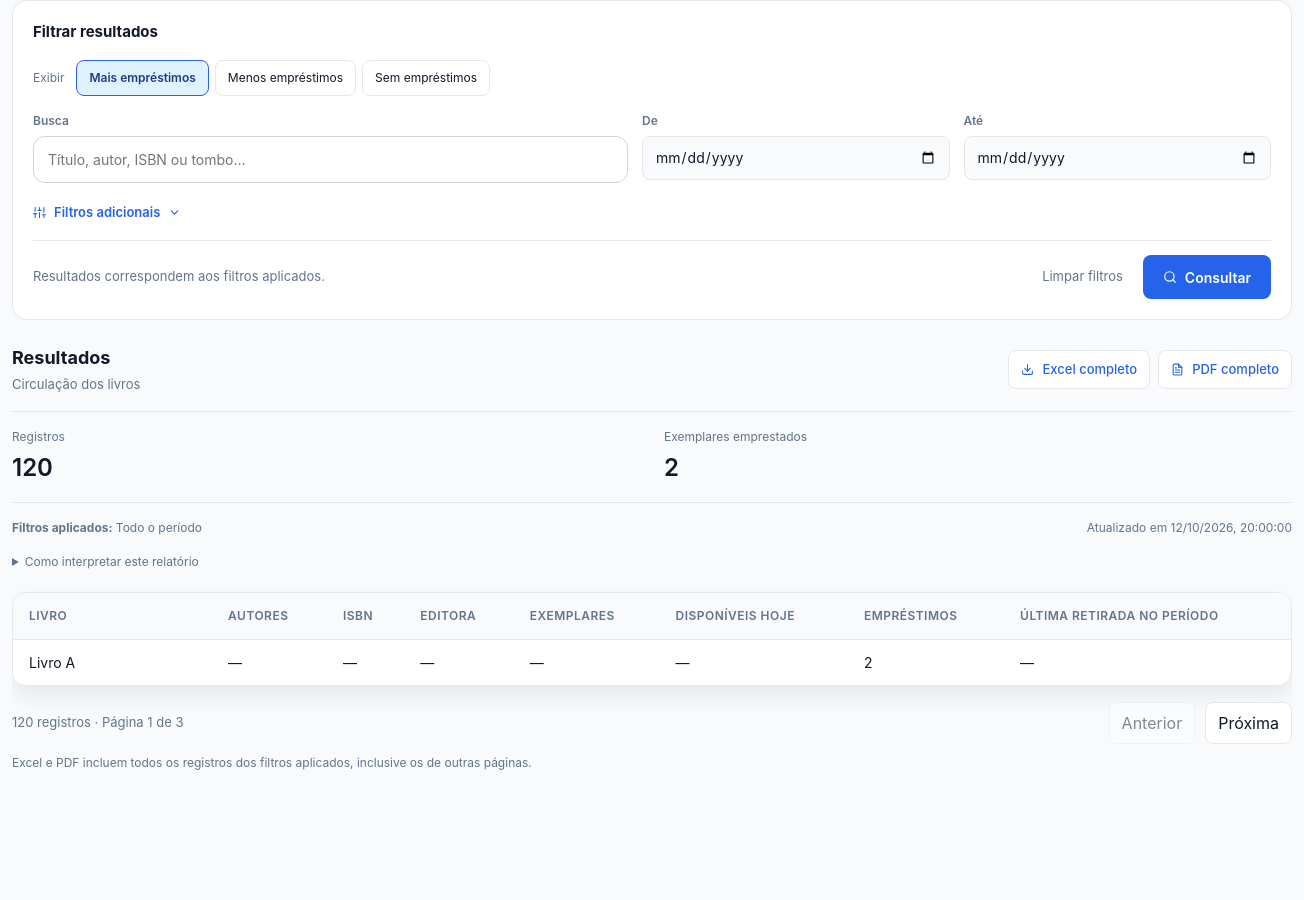
Scenario: período invertido é rejeitado antes de consultar
This screenshot has width=1304, height=900.
Expected: the text "Livro A" is shown, [13,639,212,685]
In the date field labelled "De": (796, 158) [642,136,950,180], type "2026-10-12"
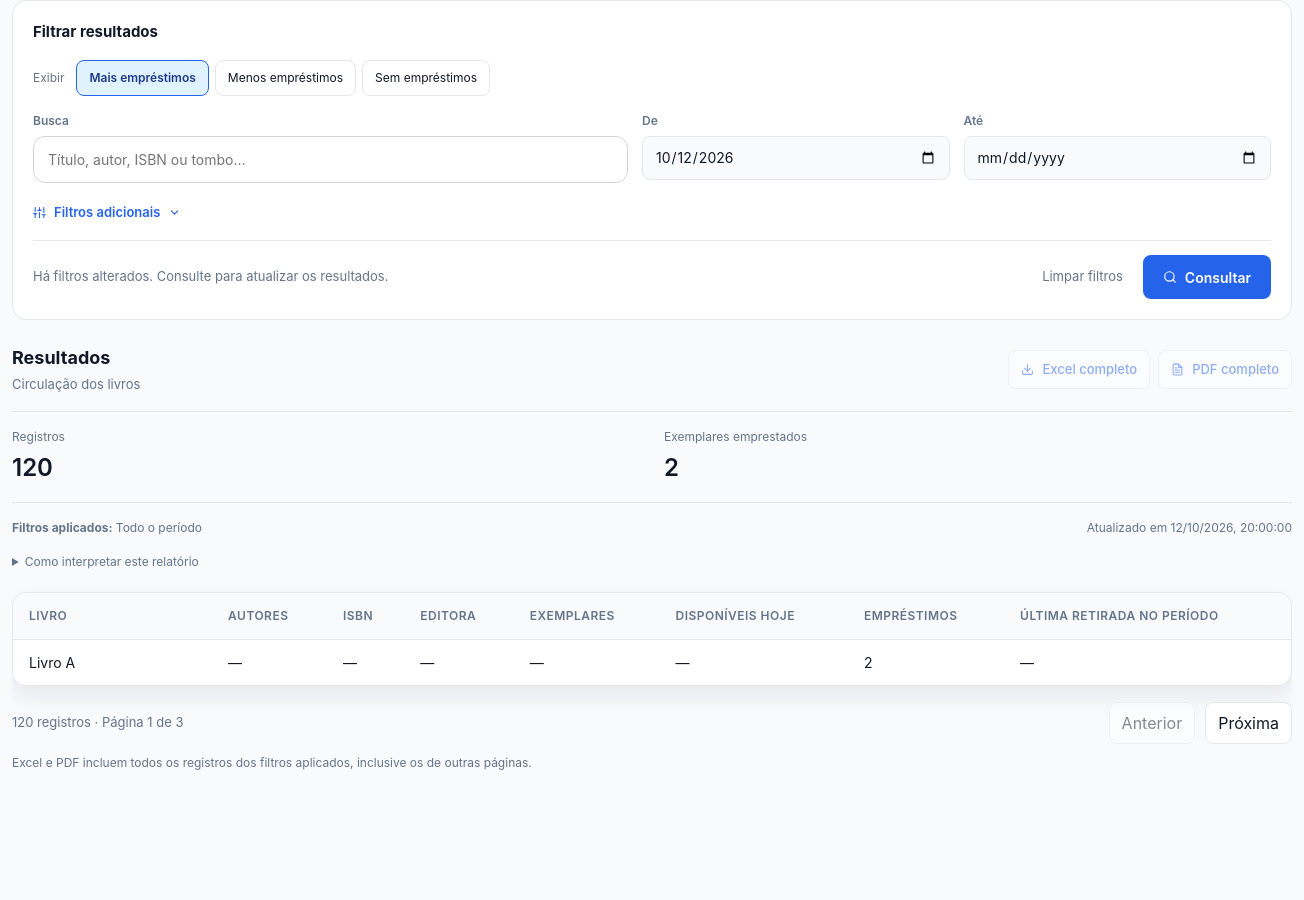
In the date field labelled "Até": (1117, 158) [964,136,1271,180], type "2026-10-01"
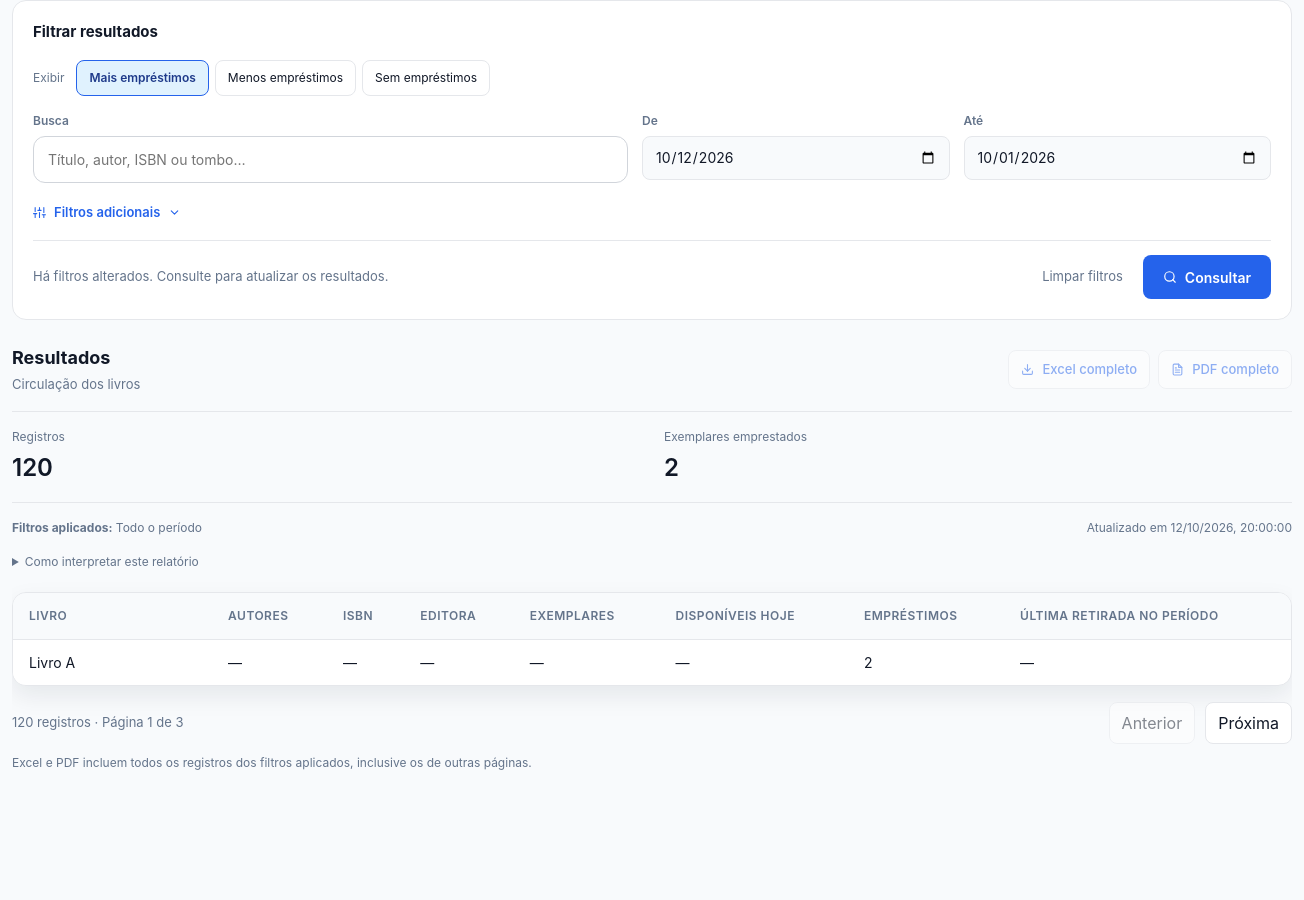
Click the button "Consultar": click(1207, 277) [1143,255,1271,299]
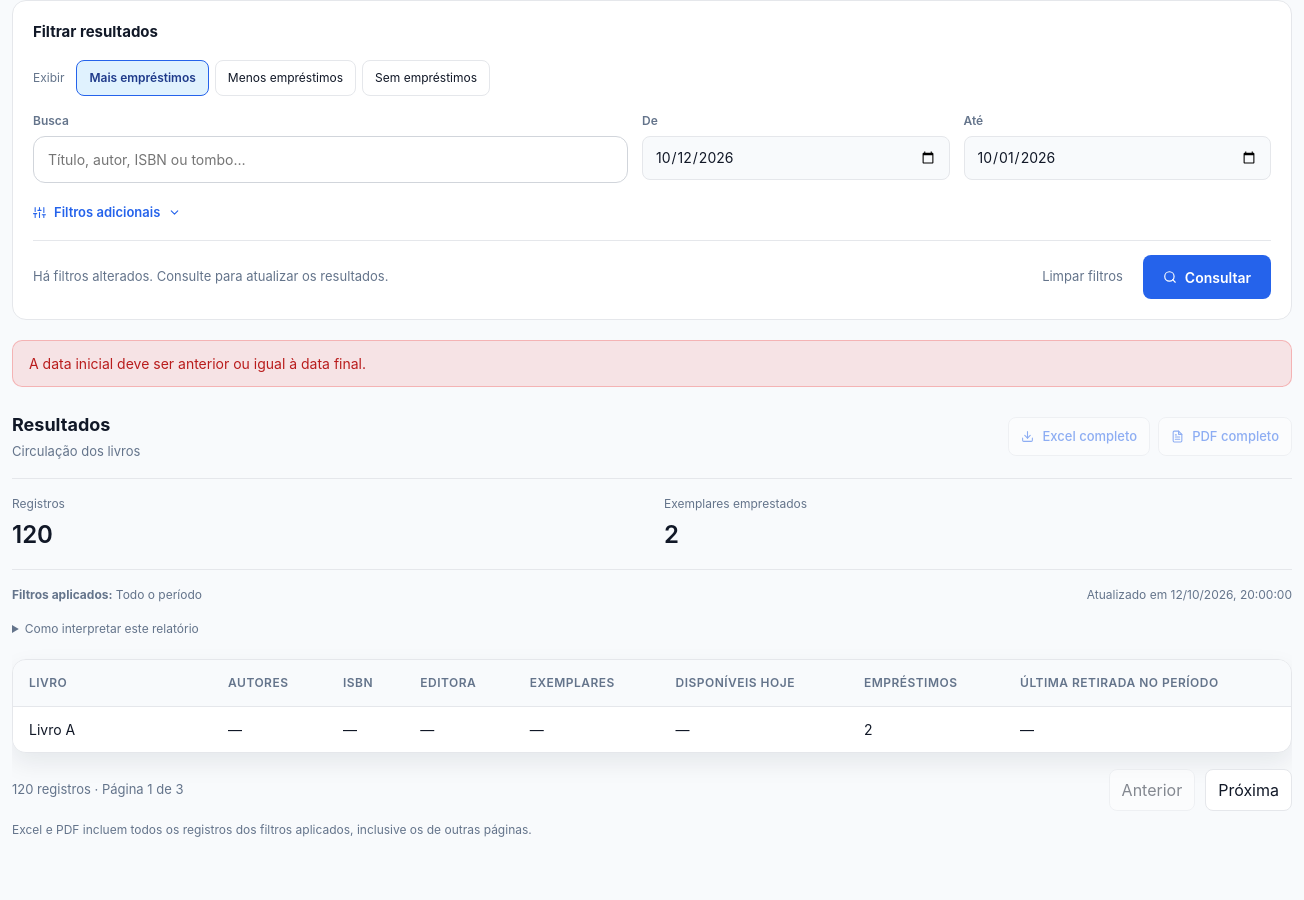
Now the message "A data inicial deve ser anterior ou igual à data final." is shown, box [12,340,1292,387]
